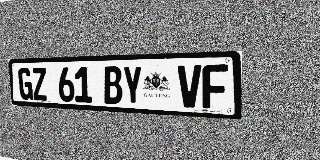1: (74, 67, 92, 103)
6: (58, 67, 75, 102)
B: (103, 66, 123, 104)
F: (202, 64, 228, 109)
G: (18, 68, 33, 100)
V: (178, 65, 202, 108)
Y: (122, 66, 143, 105)
Z: (32, 67, 48, 101)
